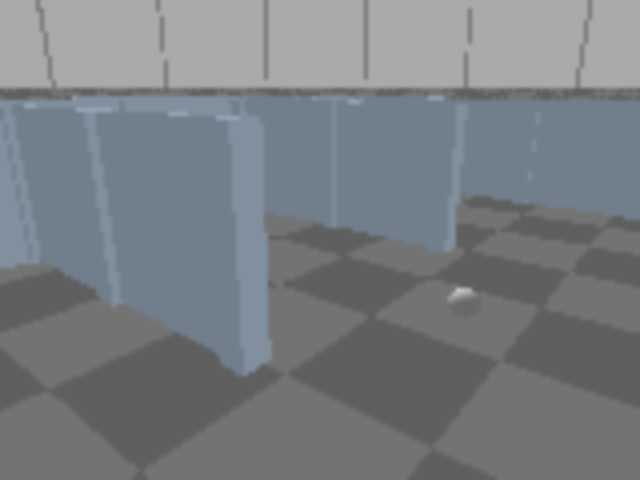puck: (441, 280, 488, 327)
